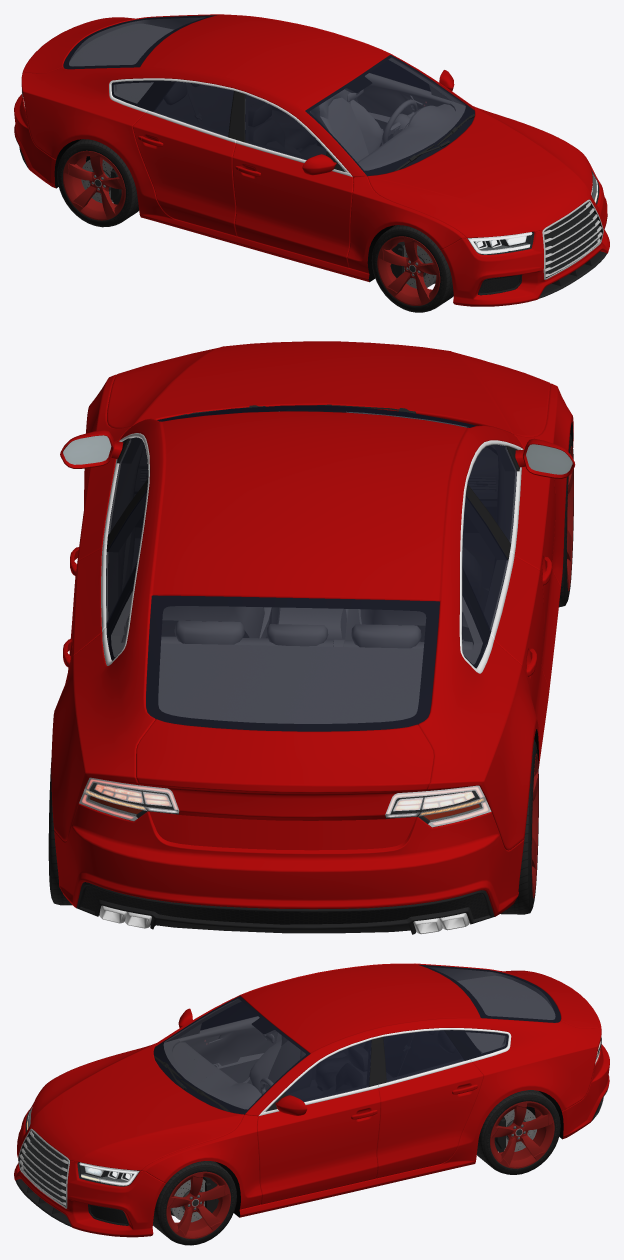
3 views of the same model, one above another, from view 1: azimuth 30°, elevation 25°; view 2: azimuth 150°, elevation 25°; view 3: azimuth 270°, elevation 25° (orthographic). The views are drawn at different scales.
Visible parts, largest first — view 1: Car02_Body_LOD0, Car02_Glass_LOD0, Car02_Door_FrontRight_LOD0, Car02_Door_BackRight_LOD0, Car02_Interior_LOD0, Car02_Wheel_BackRight_LOD0, Car02_Wheel_FrontRight_LOD0, Car02_Door_FrontRight_LOD0.003, Car02_Door_BackRight_LOD0.001, Car02_Interior_LOD0.004, Car02_Door_FrontLeft_LOD0, Car02_Door_FrontLeft_LOD0.003 (+4 smaller); view 2: Car02_Body_LOD0, Car02_Glass_LOD0, Car02_Interior_LOD0, Car02_Door_FrontRight_LOD0, Car02_Door_BackRight_LOD0, Car02_Interior_LOD0.005, Car02_Door_BackRight_LOD0.001, Car02_Door_BackLeft_LOD0, Car02_Door_FrontLeft_LOD0, Car02_Door_FrontRight_LOD0.003, Car02_Door_BackLeft_LOD0.001, Car02_Wheel_BackRight_LOD0 (+9 smaller); view 3: Car02_Body_LOD0, Car02_Glass_LOD0, Car02_Door_FrontLeft_LOD0, Car02_Door_BackLeft_LOD0, Car02_Interior_LOD0, Car02_Wheel_BackLeft_LOD0, Car02_Wheel_FrontLeft_LOD0, Car02_Door_FrontRight_LOD0, Car02_Door_FrontLeft_LOD0.003, Car02_Door_BackLeft_LOD0.001, Car02_Interior_LOD0.003, Car02_Door_FrontRight_LOD0.003 (+4 smaller).
Part boxes in pixels (bbox=[...]): Car02_Body_LOD0: bbox=[14, 14, 609, 306]; Car02_Glass_LOD0: bbox=[23, 15, 595, 177]; Car02_Door_FrontRight_LOD0: bbox=[232, 140, 353, 267]; Car02_Door_BackRight_LOD0: bbox=[132, 110, 236, 236]; Car02_Interior_LOD0: bbox=[69, 17, 465, 170]; Car02_Wheel_BackRight_LOD0: bbox=[57, 139, 139, 227]; Car02_Wheel_FrontRight_LOD0: bbox=[371, 225, 453, 312]; Car02_Door_FrontRight_LOD0.003: bbox=[245, 94, 326, 160]; Car02_Door_BackRight_LOD0.001: bbox=[152, 81, 233, 137]; Car02_Interior_LOD0.004: bbox=[310, 89, 382, 161]; Car02_Door_FrontLeft_LOD0: bbox=[357, 73, 452, 145]; Car02_Door_FrontLeft_LOD0.003: bbox=[370, 60, 430, 91]; Car02_Body_LOD0: bbox=[51, 341, 573, 934]; Car02_Glass_LOD0: bbox=[106, 405, 491, 818]; Car02_Interior_LOD0: bbox=[106, 412, 482, 723]; Car02_Door_FrontRight_LOD0: bbox=[505, 446, 560, 689]; Car02_Door_BackRight_LOD0: bbox=[490, 552, 549, 760]; Car02_Interior_LOD0.005: bbox=[122, 621, 473, 649]; Car02_Door_BackRight_LOD0.001: bbox=[462, 495, 508, 630]; Car02_Door_BackLeft_LOD0: bbox=[63, 544, 108, 671]; Car02_Door_FrontLeft_LOD0: bbox=[70, 438, 130, 575]; Car02_Door_FrontRight_LOD0.003: bbox=[467, 444, 516, 543]; Car02_Door_BackLeft_LOD0.001: bbox=[106, 489, 147, 622]; Car02_Wheel_BackRight_LOD0: bbox=[500, 740, 538, 914]; Car02_Body_LOD0: bbox=[14, 963, 609, 1237]; Car02_Glass_LOD0: bbox=[30, 964, 601, 1114]; Car02_Door_FrontLeft_LOD0: bbox=[257, 1085, 380, 1204]; Car02_Door_BackLeft_LOD0: bbox=[376, 1059, 483, 1178]; Car02_Interior_LOD0: bbox=[164, 967, 555, 1109]; Car02_Wheel_BackLeft_LOD0: bbox=[476, 1090, 560, 1174]; Car02_Wheel_FrontLeft_LOD0: bbox=[153, 1161, 236, 1245]; Car02_Door_FrontRight_LOD0: bbox=[178, 1016, 277, 1083]; Car02_Door_FrontLeft_LOD0.003: bbox=[286, 1040, 371, 1102]; Car02_Door_BackLeft_LOD0.001: bbox=[383, 1030, 464, 1082]; Car02_Interior_LOD0.003: bbox=[250, 1035, 305, 1092]; Car02_Door_FrontRight_LOD0.003: bbox=[200, 1002, 256, 1029].
Size of what is drawn, in the model's own units: 3.53 by 1.43 by 4.83.
